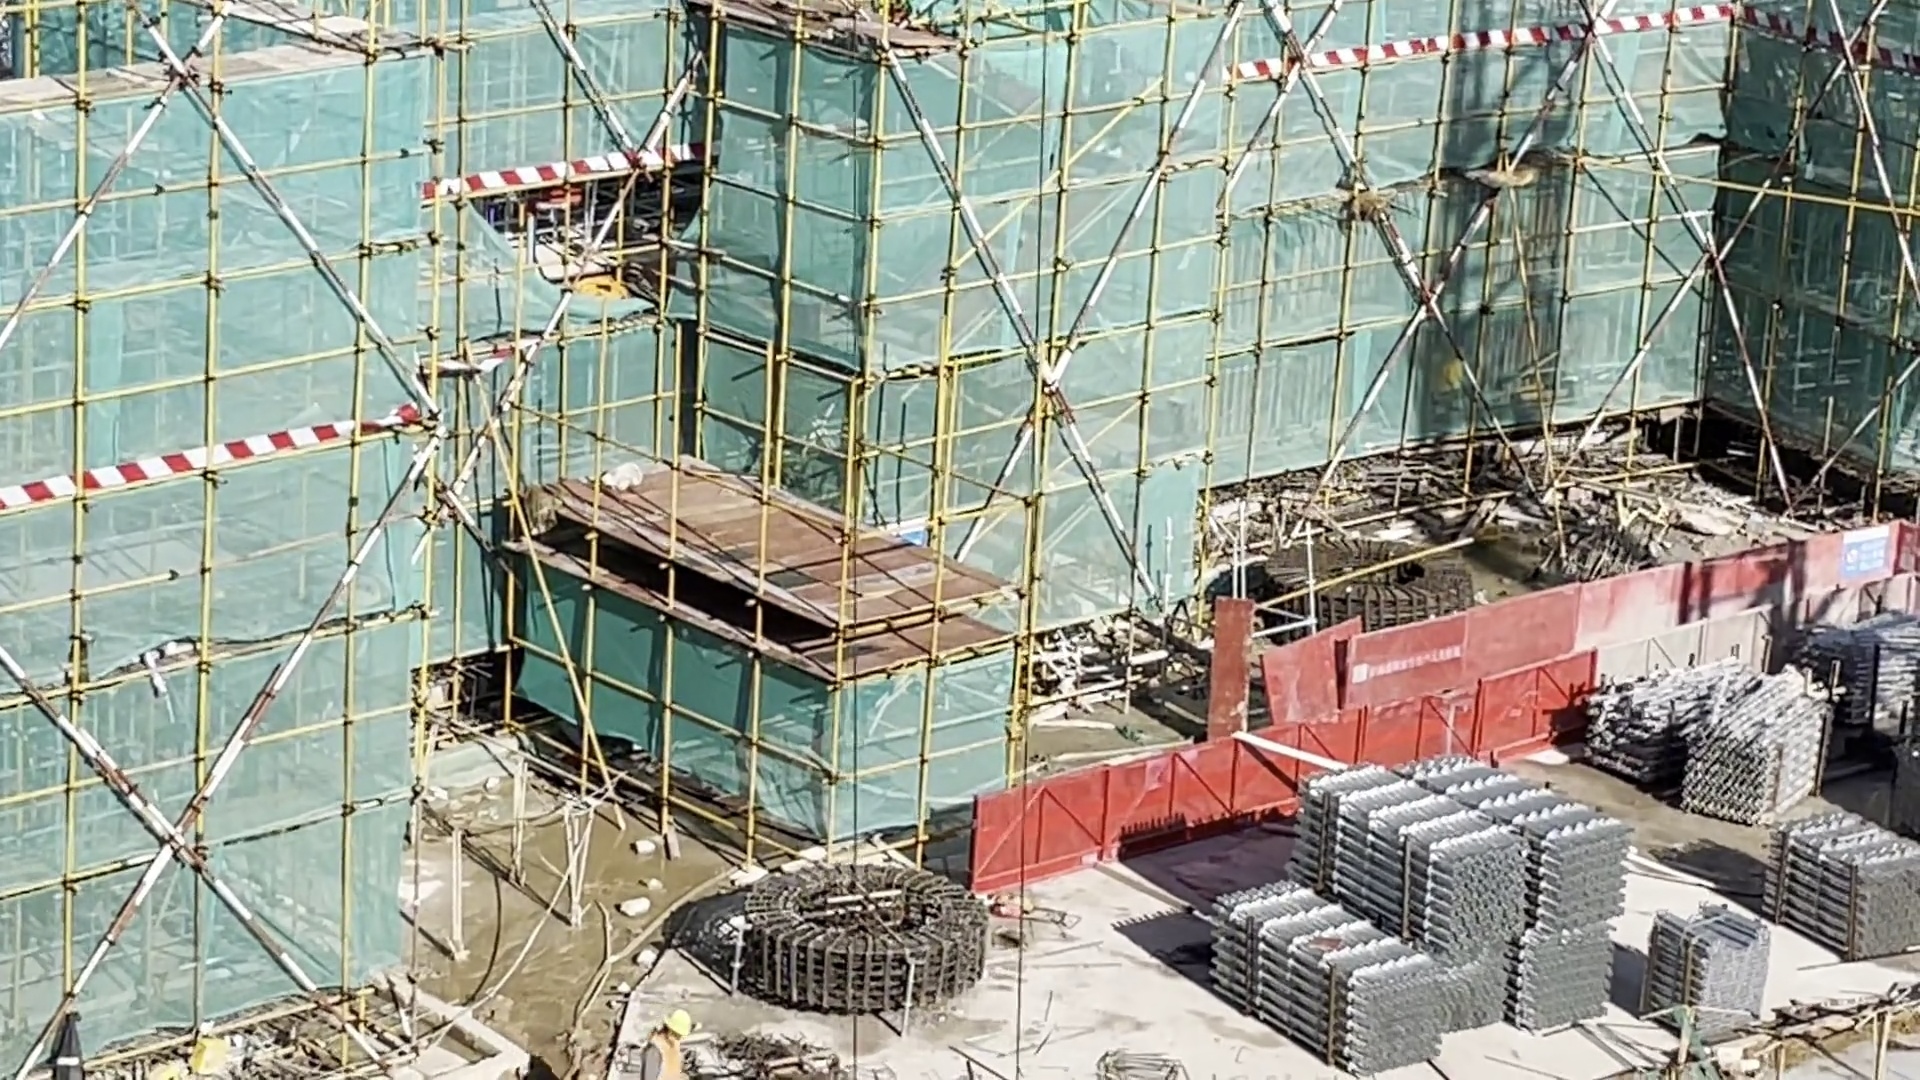fence: (968, 580, 1913, 885)
helmet: (660, 1001, 693, 1035)
person: (634, 1004, 694, 1080)
scaffold: (1185, 753, 1626, 1076), (1581, 656, 1821, 819), (1763, 813, 1916, 960), (1646, 900, 1773, 1059)
vest: (647, 1037, 683, 1077)
